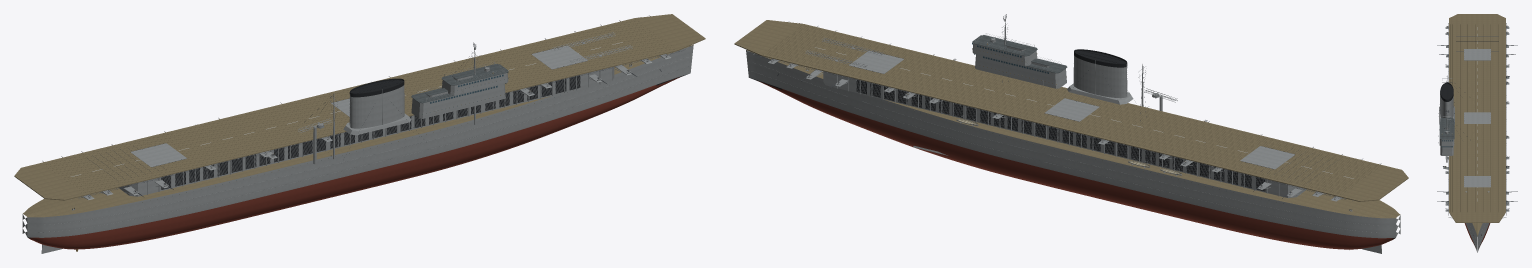
File: demo-hornet.glb
3 views of the same model, side by side, from view 1: azimuth 30°, elevation 25°; view 2: azimuth 150°, elevation 25°; view 3: azimuth 270°, elevation 25° (orthographic). The views are drawn at different scales.
Visible parts, largest first — view 1: USS Hornet (CV-8), Midway1942; view 2: USS Hornet (CV-8), Midway1942; view 3: USS Hornet (CV-8), Midway1942.
Part boxes in pixels (bbox=[...]): USS Hornet (CV-8), Midway1942: bbox=[14, 14, 705, 253]; USS Hornet (CV-8), Midway1942: bbox=[734, 14, 1408, 253]; USS Hornet (CV-8), Midway1942: bbox=[1437, 14, 1517, 252].
Size of the model in its own units: 247 by 45.65 by 39.92.
Materials: 10 (9 with a texture image).
